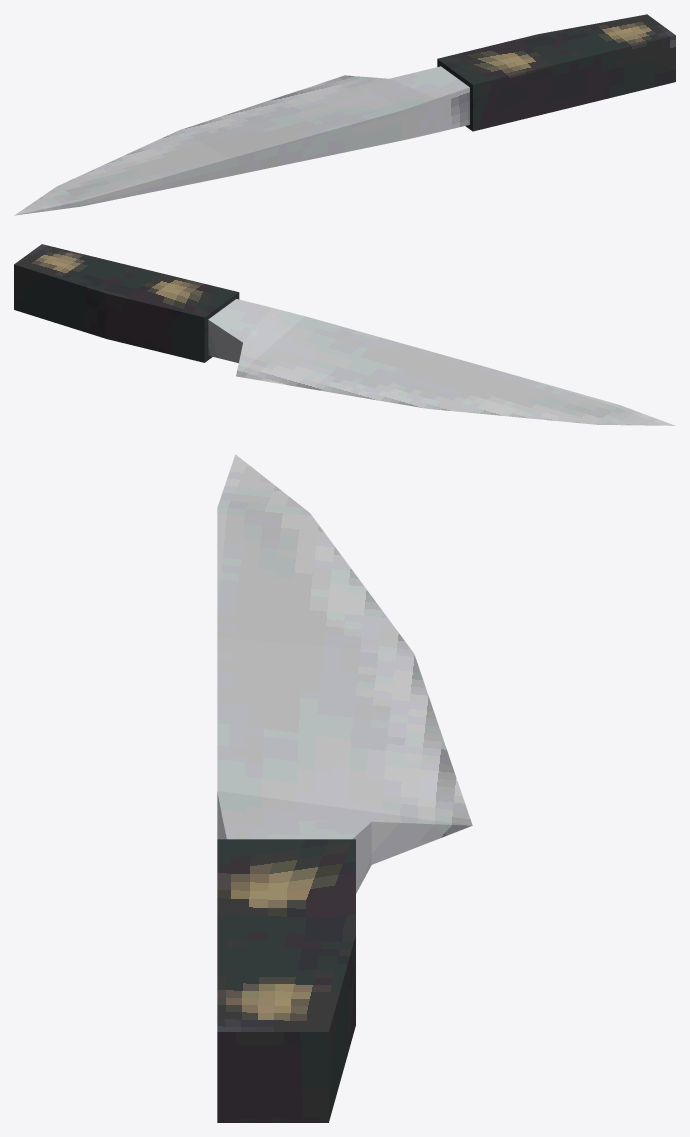
File: knife.glb
3 renders of one model, top to bottom at view 1: azimuth 30°, elevation 25°; view 2: azimuth 150°, elevation 25°; view 3: azimuth 270°, elevation 25°, orthographic. The views are drawn at different scales.
Visible parts, largest first — view 1: knife; view 2: knife; view 3: knife.
Boxes of the visible parts, left/top/right/bottom form: knife: left=14, top=14, right=675, bottom=215; knife: left=14, top=244, right=675, bottom=425; knife: left=217, top=454, right=472, bottom=1122.
Size of the model in its own units: 0.3374 by 0.0229 by 0.0584.
Materials: 1 (1 with a texture image).
